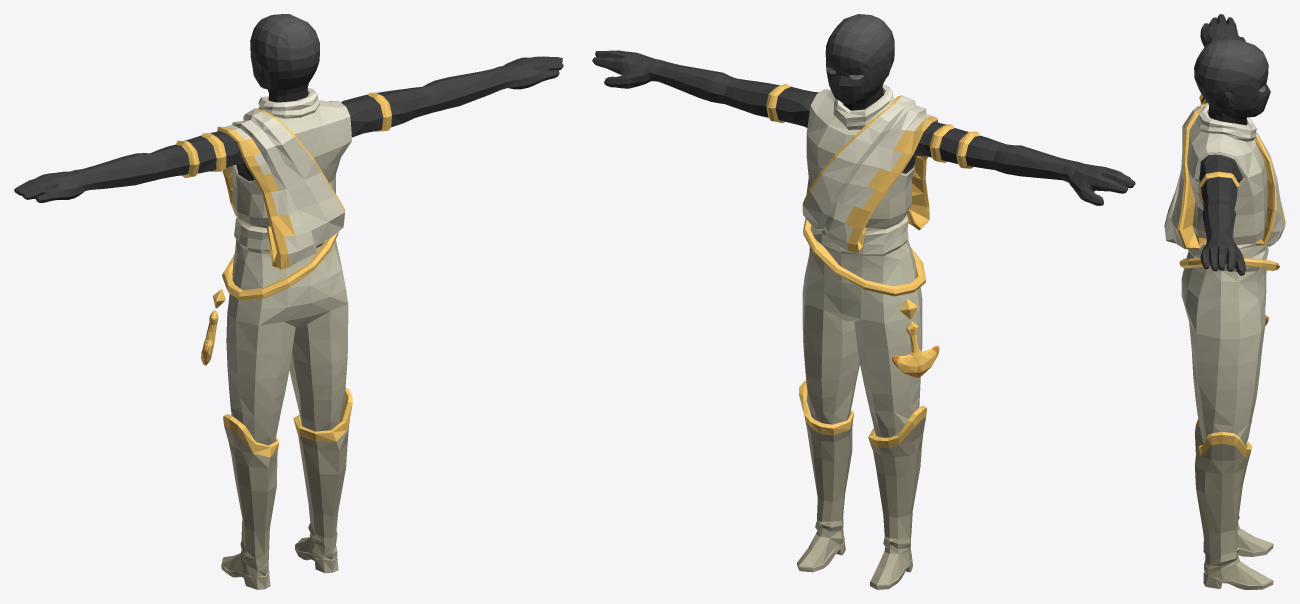
Rendered from NPC_AP28MantaWhisperer.glb.
The picture shows the model from 3 angles, left to right: view 1: azimuth 30°, elevation 25°; view 2: azimuth 150°, elevation 25°; view 3: azimuth 270°, elevation 25°; orthographic projection. The views are drawn at different scales.
Visible parts, largest first — view 1: NPC_AP28MantaWhisperer; view 2: NPC_AP28MantaWhisperer; view 3: NPC_AP28MantaWhisperer.
Part boxes in pixels (bbox=[...]): NPC_AP28MantaWhisperer: bbox=[14, 14, 563, 589]; NPC_AP28MantaWhisperer: bbox=[592, 14, 1135, 589]; NPC_AP28MantaWhisperer: bbox=[1164, 14, 1285, 589].
Size of the model in its own units: 14.04 by 13.64 by 2.85.
Materials: 1 (1 with a texture image).
